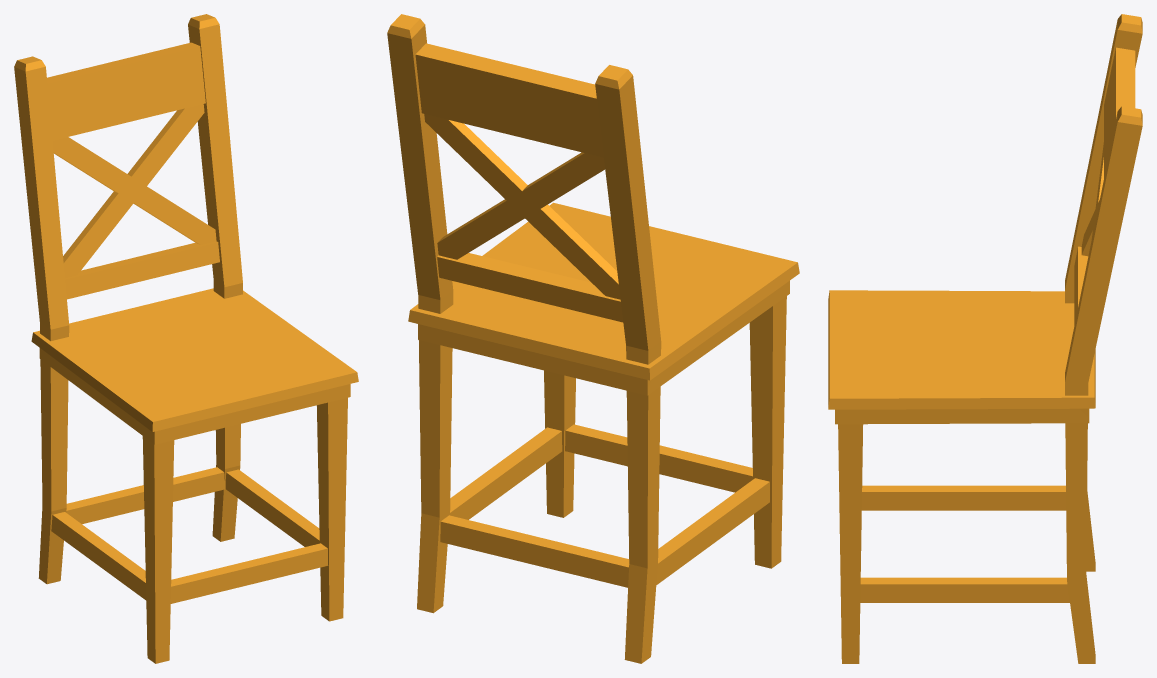
The model's file is SM_Chair_Dinner_Farm_A.fbx.
3 renders of one model, left to right at view 1: azimuth 30°, elevation 25°; view 2: azimuth 150°, elevation 25°; view 3: azimuth 270°, elevation 25°, orthographic. The views are drawn at different scales.
Parts seen in each view (by area): view 1: chair-dinner-farm-a; view 2: chair-dinner-farm-a; view 3: chair-dinner-farm-a.
Boxes of the visible parts, x1,y1,x2,y2 form: chair-dinner-farm-a: [14, 14, 358, 663]; chair-dinner-farm-a: [387, 14, 799, 663]; chair-dinner-farm-a: [828, 14, 1142, 663].
Bounding box in the file's own units: 0.4352 × 1.02 × 0.5284.
